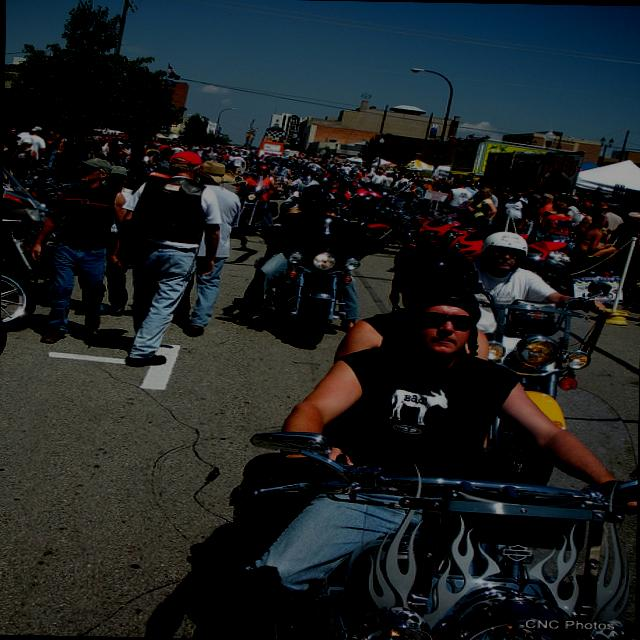Vehicle: (226, 433, 638, 634), (472, 274, 606, 484), (258, 198, 388, 349), (1, 166, 58, 292), (392, 213, 483, 264), (516, 240, 576, 294), (367, 206, 426, 246), (0, 266, 36, 326), (239, 188, 275, 236), (340, 184, 384, 217)
